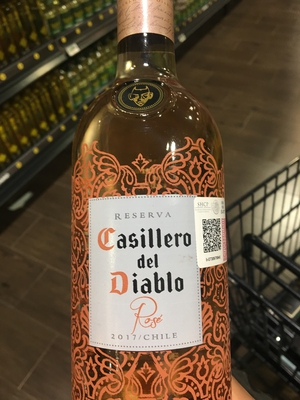casillero del diablo rose: (62, 9, 246, 400)
